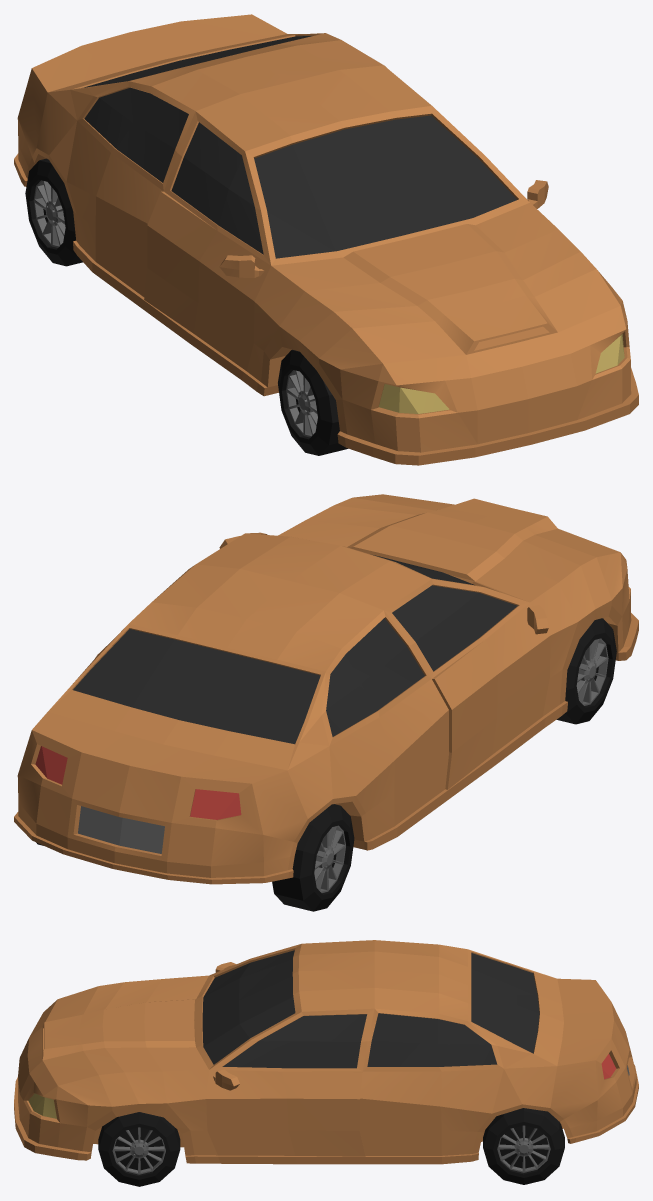
The model's file is SportsCar.glb.
The picture shows the model from 3 angles, top to bottom: view 1: azimuth 30°, elevation 25°; view 2: azimuth 150°, elevation 25°; view 3: azimuth 270°, elevation 25°; orthographic projection. The views are drawn at different scales.
Visible parts, largest first — view 1: SportsCar; view 2: SportsCar; view 3: SportsCar.
Part boxes in pixels (<box>): SportsCar: <box>14,14,638,465</box>; SportsCar: <box>14,494,638,911</box>; SportsCar: <box>14,940,638,1186</box>.
Size of the model in its own units: 1.8 by 1.16 by 3.97.
